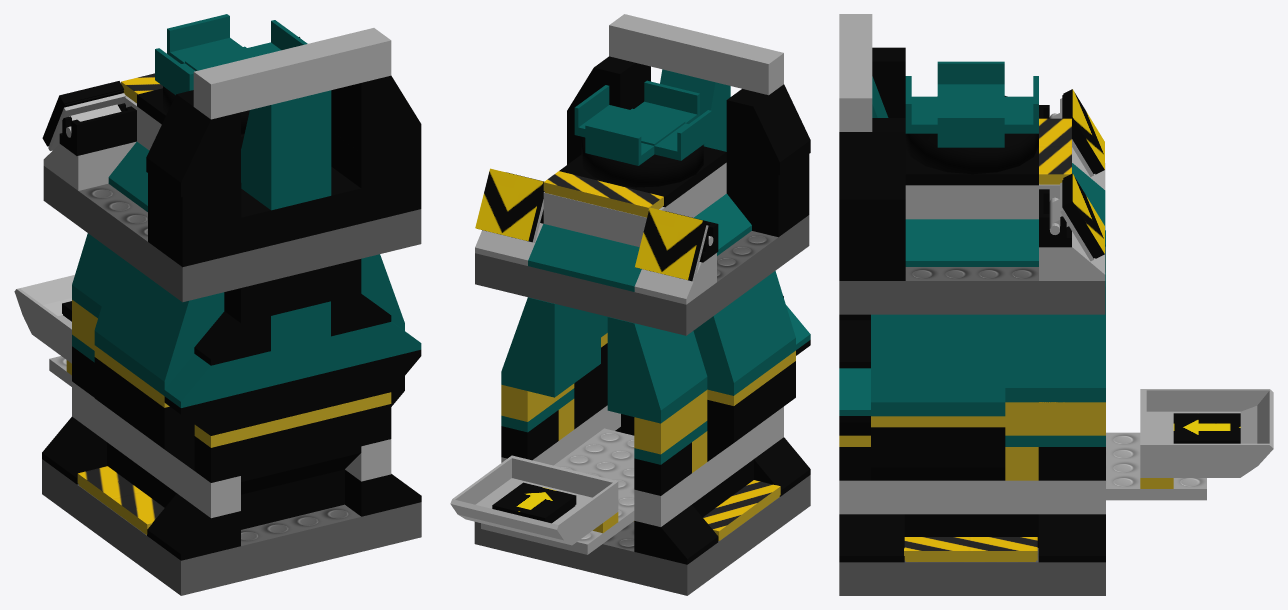
The model's file is PowerStation.fbx.
3 renders of one model, left to right at view 1: azimuth 30°, elevation 25°; view 2: azimuth 150°, elevation 25°; view 3: azimuth 270°, elevation 25°, orthographic. The views are drawn at different scales.
Parts seen in each view (by area): view 1: Plate6x6, Slope2x2x3, Plate6x6.001, Plate6x6.003, Plate6x6.018, Plate6x6.002; view 2: Plate6x6, Slope2x2x3, Plate6x6.001, Plate6x6.003, Plate6x6.002, Plate6x6.018; view 3: Plate6x6, Slope2x2x3, Plate6x6.003, Plate6x6.001, Plate6x6.002, Plate6x6.018.
Part boxes in pixels (<box>): Plate6x6: <box>14,14,421,529</box>; Slope2x2x3: <box>72,75,421,395</box>; Plate6x6.001: <box>42,166,421,595</box>; Plate6x6.003: <box>42,141,421,560</box>; Plate6x6.018: <box>42,37,299,155</box>; Plate6x6.002: <box>62,46,257,534</box>; Plate6x6: <box>450,14,809,554</box>; Slope2x2x3: <box>501,56,810,423</box>; Plate6x6.001: <box>474,215,810,595</box>; Plate6x6.003: <box>475,193,810,564</box>; Plate6x6.002: <box>492,108,780,540</box>; Plate6x6.018: <box>475,168,718,281</box>; Plate6x6: <box>839,14,1273,547</box>; Slope2x2x3: <box>839,47,1105,416</box>; Plate6x6.003: <box>839,147,1105,562</box>; Plate6x6.001: <box>839,267,1105,595</box>; Plate6x6.002: <box>904,94,1240,561</box>; Plate6x6.018: <box>1039,89,1104,261</box>.
Size of what is drawn, in the model's own units: 0.4002 by 0.8017 by 0.6531.
